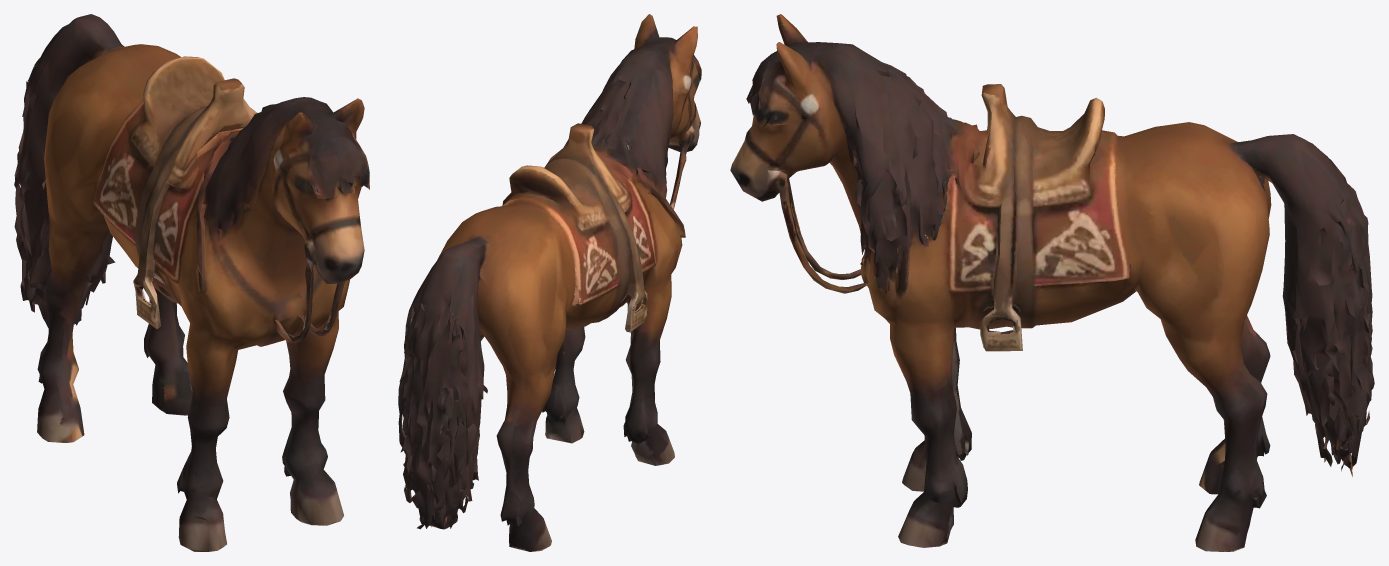
Rendered from horse-saddled.glb.
3 renders of one model, left to right at view 1: azimuth 30°, elevation 25°; view 2: azimuth 150°, elevation 25°; view 3: azimuth 270°, elevation 25°, orthographic. The views are drawn at different scales.
Visible parts, largest first — view 1: horse-saddled.raw; view 2: horse-saddled.raw; view 3: horse-saddled.raw.
Boxes of the visible parts, x1=… form: horse-saddled.raw: x1=14, y1=14, x2=369, y2=551; horse-saddled.raw: x1=398, y1=14, x2=701, y2=551; horse-saddled.raw: x1=730, y1=14, x2=1374, y2=551.
Size of the model in its own units: 0.7096 by 1.9 by 2.3.
Materials: 1 (1 with a texture image).
